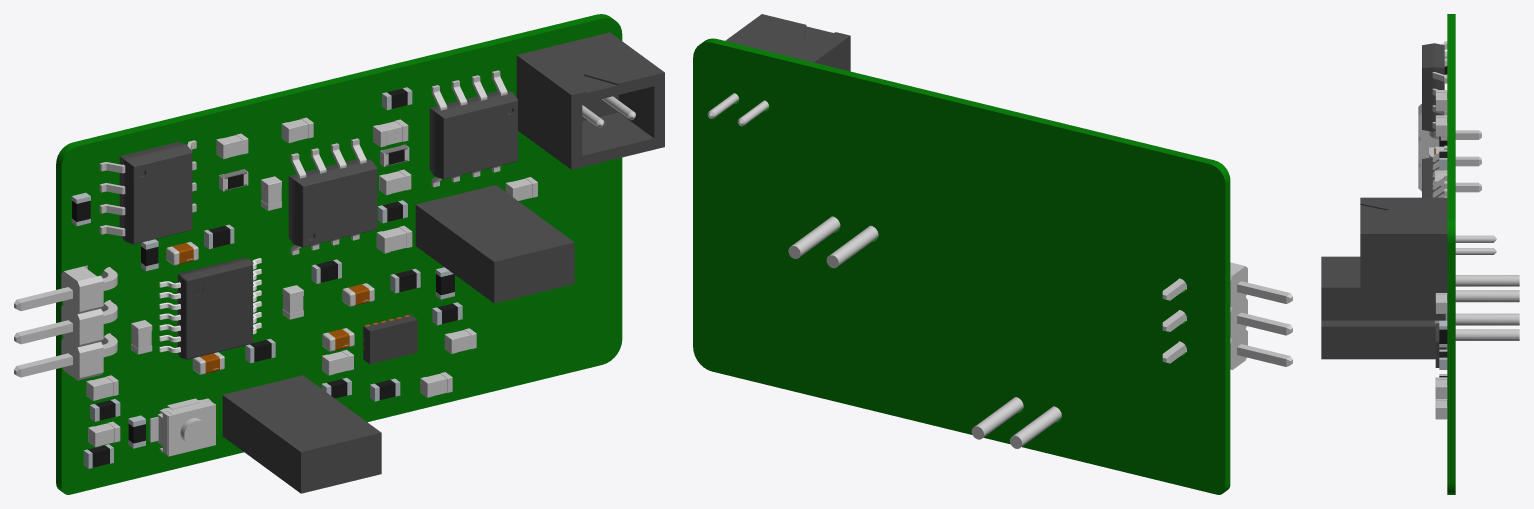
Rendered from pcb.glb.
The picture shows the model from 3 angles, left to right: view 1: azimuth 30°, elevation 25°; view 2: azimuth 150°, elevation 25°; view 3: azimuth 270°, elevation 25°; orthographic projection. The views are drawn at different scales.
Visible parts, largest first — view 1: empty_2, empty_99, empty_33, empty_36, empty_15, empty_102, empty_120, empty_111, empty_39, empty_43, empty_129, empty_42 (+4 smaller); view 2: empty_2, empty_99, empty_39, empty_42, empty_41, empty_40, empty_34, empty_37, empty_38, empty_35; view 3: empty_99, empty_36, empty_33, empty_2, empty_120, empty_35, empty_37, empty_34, empty_38, empty_39, empty_102, empty_41 (+5 smaller).
Part boxes in pixels (x1,y1,x2,y2): empty_2: (56, 14, 622, 494); empty_99: (516, 32, 664, 169); empty_33: (222, 375, 381, 493); empty_36: (415, 185, 574, 303); empty_15: (177, 258, 252, 359); empty_102: (288, 158, 377, 247); empty_120: (119, 142, 192, 244); empty_111: (429, 90, 517, 179); empty_39: (61, 265, 103, 380); empty_43: (149, 398, 215, 456); empty_129: (363, 314, 417, 364); empty_42: (14, 333, 117, 377); empty_2: (693, 38, 1230, 494); empty_99: (725, 14, 850, 71); empty_39: (1230, 262, 1247, 369); empty_42: (1162, 341, 1292, 366); empty_41: (1162, 310, 1292, 335); empty_40: (1162, 278, 1292, 303); empty_34: (971, 397, 1023, 439); empty_37: (788, 216, 840, 258); empty_38: (826, 225, 878, 268); empty_35: (1010, 406, 1061, 448); empty_99: (1360, 197, 1447, 292); empty_36: (1321, 256, 1445, 320); empty_33: (1321, 320, 1435, 359); empty_2: (1447, 14, 1455, 494); empty_120: (1422, 43, 1444, 131); empty_35: (1455, 313, 1519, 325); empty_37: (1455, 290, 1519, 302); empty_34: (1455, 329, 1519, 340); empty_38: (1455, 275, 1519, 286); empty_39: (1418, 104, 1439, 191); empty_102: (1422, 157, 1439, 186); empty_41: (1429, 147, 1481, 166).
Size of the model in its own units: 38.91 by 20.9 by 13.69.
